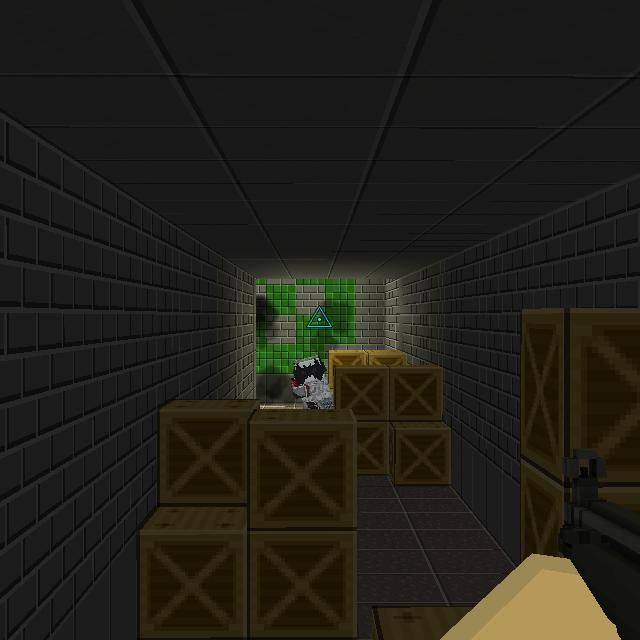enemy: (291, 355, 334, 410)
